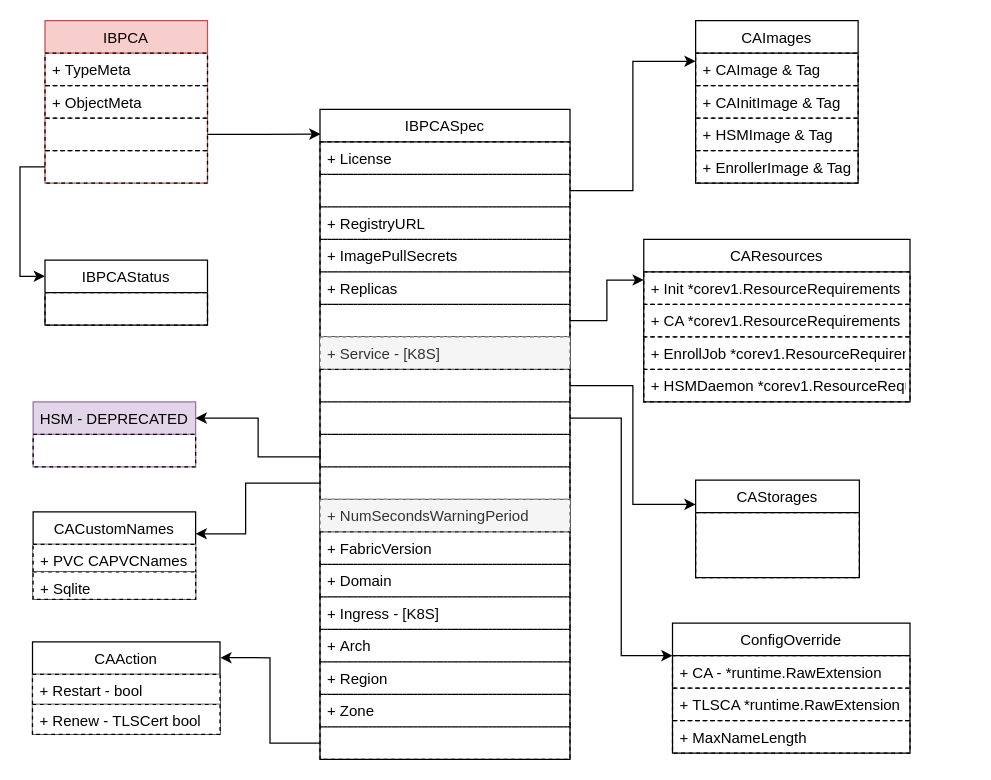
This 991x780 diagram has some shape labels left out. The centre of each missing label's shape, as x and y in pixels:
+ Action: point (444, 742)
+ CA *StorageSpec - Size - Class: point (776, 544)
+ ConfigOverride: point (444, 417)
+ CRStatus: point (126, 308)
+ CustomNames: point (444, 482)
+ HSM: point (444, 450)
+ IBPCASpec: point (126, 134)
+ IBPCAStatus: point (126, 166)
+ Images: point (444, 190)
+ PKCS11Endpoint: point (114, 450)
+ Resources: point (444, 320)
+ Storage: point (444, 385)
